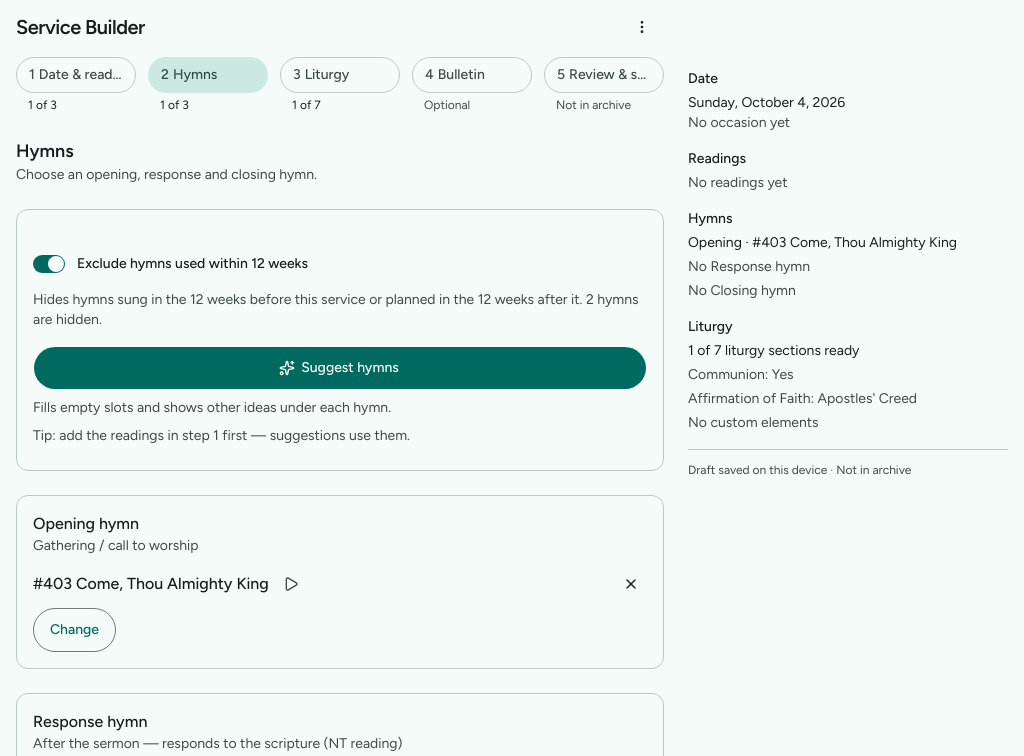
Test case: the Hymns step (S User experience) › keeps the pickers, the toolbar and a pending Suggest when a background refetch fails after loading
Click the button "Suggest hymns" at [340, 368], box [33,346,647,390]
(page scrolled)
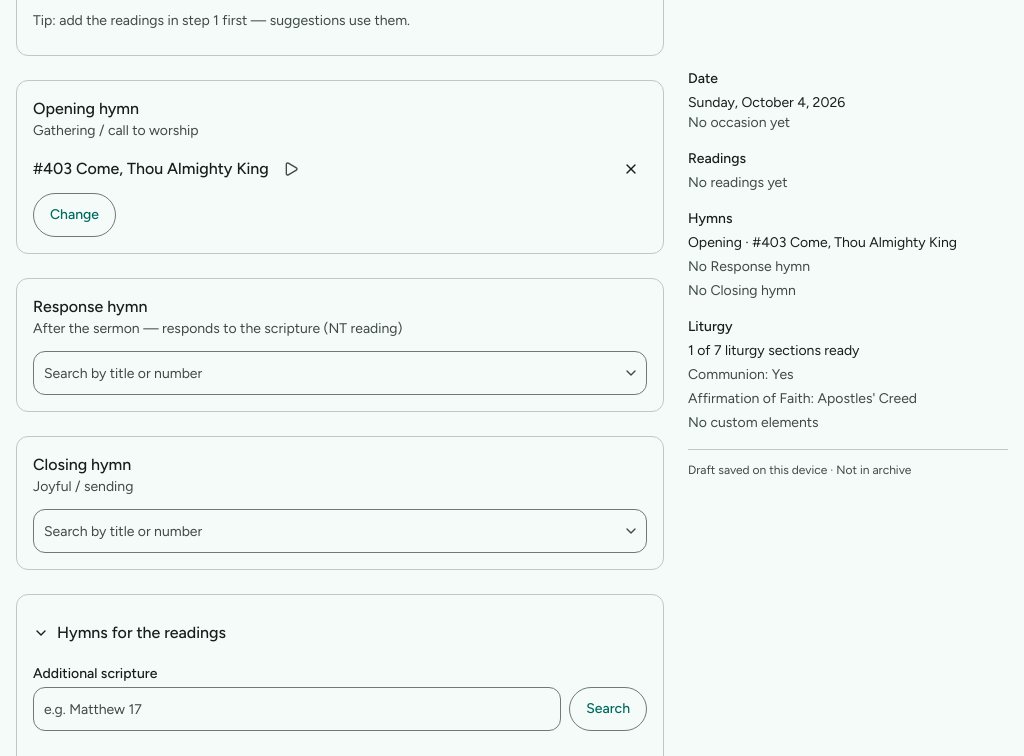
# TanStack Query v5 keeps the loaded data with the error: the picker still works afterwards.
Type "650" into the dropdown named "Response hymn" at [326, 373], box [34,352,619,394]
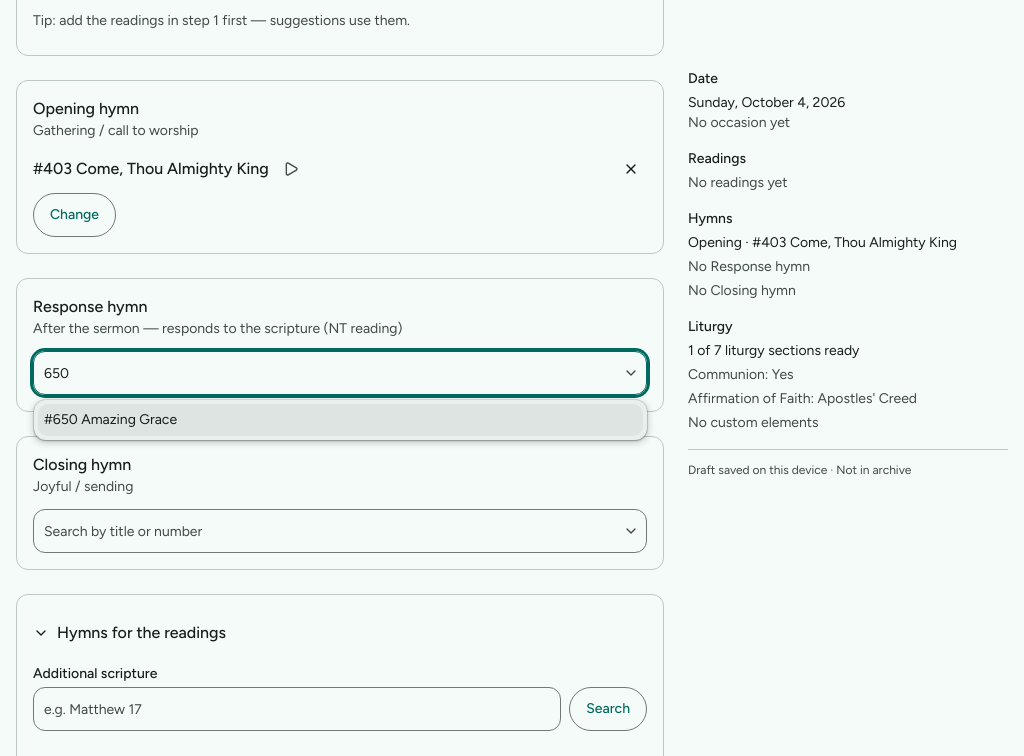
Click the option "#650 Amazing Grace" at [111, 420], box [38,404,643,436]
(page scrolled)
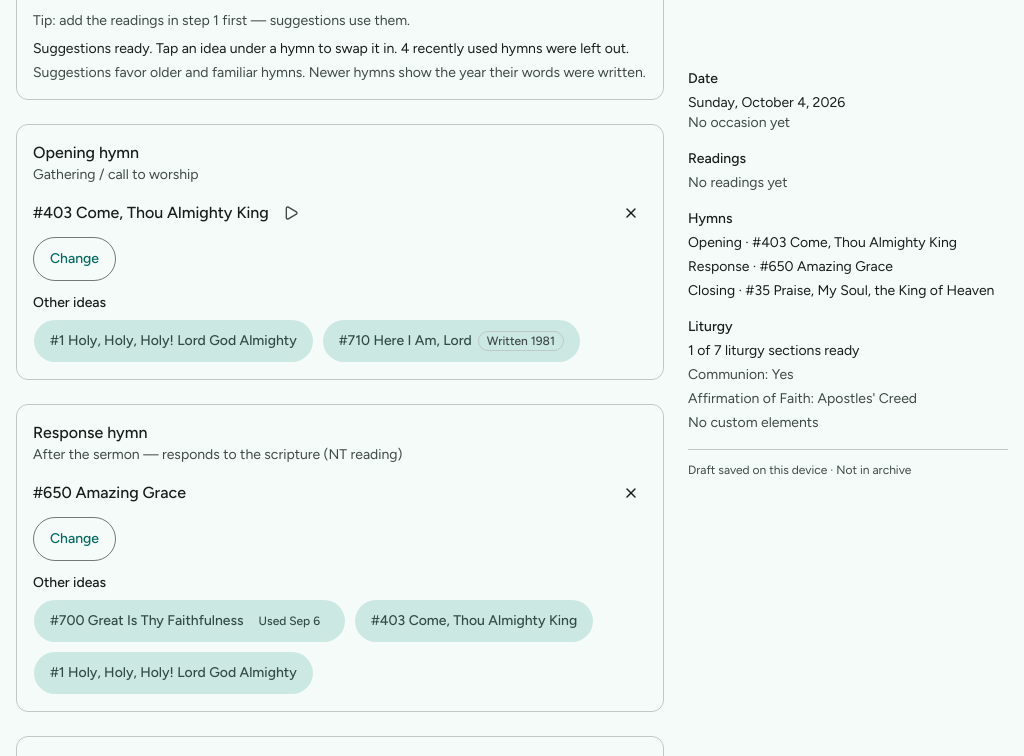
Expected: the button "Change" below "Gathering / call to worship" is shown, [33,237,116,281]
Result: the text "#650 Amazing Grace" is shown at [33,481,186,505]
Result: the text "Suggestions ready" is shown at [33,40,629,57]
